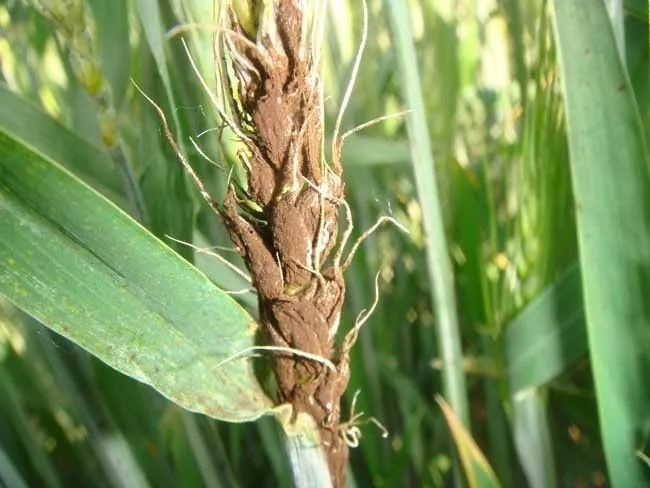Wheat Loose Smut: (205, 32, 373, 435)
